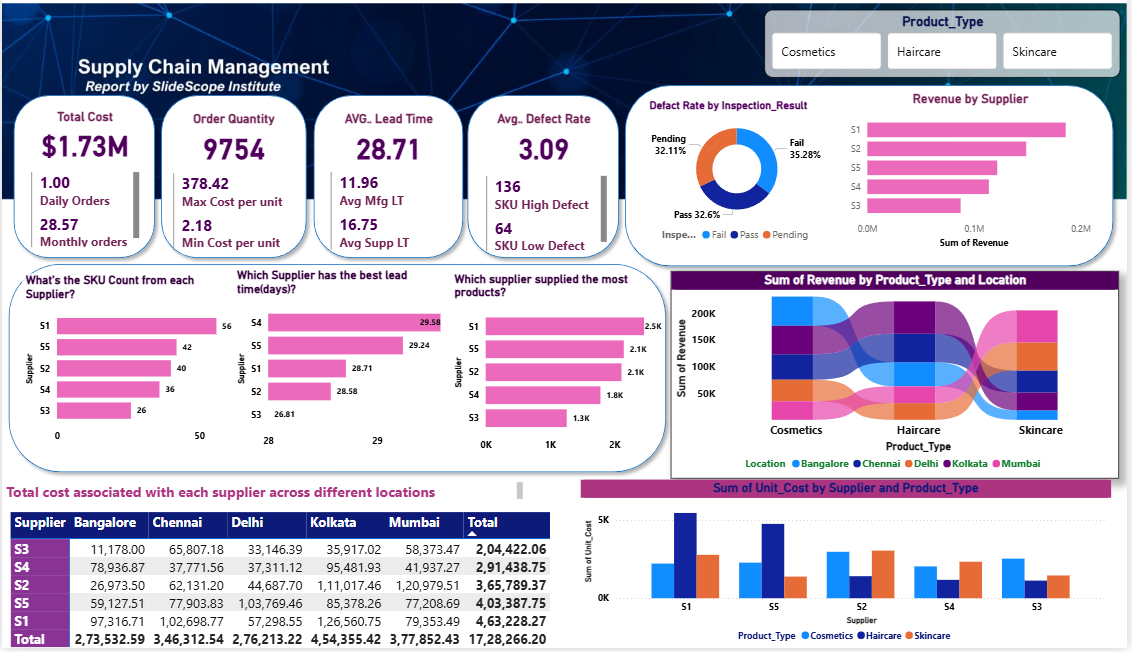

Layout of this report page (visuals, bound fields, positions):
{"tool":"powerbi","page":{"name":"Supply Chain DashBoard","canvas":[1500,870],"ordinal":0},"visuals":[{"type":"shape","box":[6.9,123.7,206.1,235],"z":0},{"type":"multiRowCard","fields":{"Values":["M1.Daily Orders","M1.Monthly orders"]},"box":[32.6,230.4,154.4,109.8],"z":1000},{"type":"card","title":"Total Cost","fields":{"Values":["M1.Total Cost"]},"box":[27.7,150.8,165.3,74.8],"z":2000},{"type":"shape","box":[203.4,123.7,211.6,235],"z":3000},{"type":"shape","box":[406.7,123.7,217.1,235],"z":4000},{"type":"shape","box":[611.4,123.7,219.8,235],"z":5000},{"type":"card","title":"Order Quantity","fields":{"Values":["M1.Order Quantity"]},"box":[226.8,153.2,165.3,74.8],"z":6000},{"type":"multiRowCard","fields":{"Values":["M1.Max Cost per unit","M1.Min Cost per unit"]},"box":[223.2,231.6,171.3,112.2],"z":7000},{"type":"multiRowCard","fields":{"Values":["M1.Avg Manufacturing Lead Time","M1.Avg Supplier Lead Time"]},"box":[433.1,230.4,165.3,117],"z":8000},{"type":"multiRowCard","fields":{"Values":["M1.SKU High Defect","M1.SKU Low Defect"]},"box":[639.4,235.3,171.3,109.8],"z":9000},{"type":"card","title":"AVG.. Lead Time","fields":{"Values":["M1.Avg Lead Time (Days)"]},"box":[433.1,153.2,165.3,74.8],"z":10000},{"type":"card","title":"Avg.. Defect Rate","fields":{"Values":["M1.Average Defact Rate"]},"box":[639.4,153.2,165.3,74.8],"z":11000},{"type":"shape","box":[822.2,109.3,669.1,259.5],"z":12000},{"type":"donutChart","title":" Defact Rate by Inspection_Result","fields":{"Category":["Supply Chain Data.Inspection_Result"],"Y":["M1.Average Defact Rate"]},"box":[858.8,137.4,243.2,200.6],"z":13000},{"type":"clusteredBarChart","title":" Revenue by Supplier","fields":{"Category":["Supply Chain Data.Supplier"],"Y":["Sum(Supply Chain Data.Revenue)"]},"box":[1125.3,126.4,332.5,215.7],"z":14000},{"type":"advancedSlicerVisual","fields":{"Values":["Supply Chain Data.Product_Type"]},"box":[1016.8,17.9,474,90.7],"z":15000},{"type":"shape","box":[0,348.4,894.3,295.6],"z":16000},{"type":"clusteredBarChart","title":"What''s the SKU Count from each Supplier?","fields":{"Category":["Supply Chain Data.Supplier"],"Y":["CountNonNull(Supply Chain Data.SKU)"]},"box":[27.5,369.6,291.3,235],"z":17000},{"type":"clusteredBarChart","title":"Which Supplier has the best lead time(days)?","fields":{"Category":["Supply Chain Data.Supplier"],"Y":["Avg(Supply Chain Data.Avg_Lead_Time)"]},"box":[309.2,362.7,288.5,248.7],"z":18000},{"type":"clusteredBarChart","title":"Which supplier supplied the most products?","fields":{"Category":["Supply Chain Data.Supplier"],"Y":["Sum(Supply Chain Data.Ordered_Quantity)"]},"box":[597.7,368.2,294,248.7],"z":19000},{"type":"textbox","box":[0,643.9,699.7,40.7],"z":20000},{"type":"pivotTable","fields":{"Columns":["Supply Chain Data.Location"],"Values":["Sum(Supply Chain Data.Total_Cost)"],"Rows":["Supply Chain Data.Supplier"]},"box":[7.3,683.7,742,202.6],"z":21000},{"type":"ribbonChart","fields":{"Category":["Supply Chain Data.Product_Type"],"Y":["Sum(Supply Chain Data.Revenue)"],"Series":["Supply Chain Data.Location"]},"box":[892.2,367.4,597.7,277],"z":22000},{"type":"clusteredColumnChart","fields":{"Category":["Supply Chain Data.Supplier"],"Y":["Sum(Supply Chain Data.Unit_Cost)"],"Series":["Supply Chain Data.Product_Type"]},"box":[771.2,644.3,707,226],"z":23000}]}

Visuals, with their boxes in screenshot pixels (x1, y1, x2, y2), scaled from the page's 1500x870 canvas onto the 1132x652 screenshot:
shape: detection(5, 93, 161, 269)
multiRowCard - M1.Daily Orders x M1.Monthly orders: detection(25, 173, 141, 255)
"Total Cost" card: detection(21, 113, 146, 169)
shape: detection(153, 93, 313, 269)
shape: detection(307, 93, 471, 269)
shape: detection(461, 93, 627, 269)
"Order Quantity" card: detection(171, 115, 296, 171)
multiRowCard - M1.Max Cost per unit x M1.Min Cost per unit: detection(168, 174, 298, 258)
multiRowCard - M1.Avg Manufacturing Lead Time x M1.Avg Supplier Lead Time: detection(327, 173, 452, 260)
multiRowCard - M1.SKU High Defect x M1.SKU Low Defect: detection(483, 176, 612, 259)
"AVG.. Lead Time" card: detection(327, 115, 452, 171)
"Avg.. Defect Rate" card: detection(483, 115, 607, 171)
shape: detection(620, 82, 1125, 276)
" Defact Rate by Inspection_Result" donutChart: detection(648, 103, 832, 253)
" Revenue by Supplier" clusteredBarChart: detection(849, 95, 1100, 256)
advancedSlicerVisual - Supply Chain Data.Product_Type: detection(767, 13, 1125, 81)
shape: detection(0, 261, 675, 483)
"What''s the SKU Count from each Supplier?" clusteredBarChart: detection(21, 277, 241, 453)
"Which Supplier has the best lead time(days)?" clusteredBarChart: detection(233, 272, 451, 458)
"Which supplier supplied the most products?" clusteredBarChart: detection(451, 276, 673, 462)
textbox: detection(0, 483, 528, 513)
pivotTable - Supply Chain Data.Location x Sum(Supply Chain Data.Total_Cost): detection(6, 512, 565, 651)
ribbonChart - Supply Chain Data.Product_Type x Sum(Supply Chain Data.Revenue): detection(673, 275, 1124, 483)
clusteredColumnChart - Supply Chain Data.Supplier x Sum(Supply Chain Data.Unit_Cost): detection(582, 483, 1116, 651)
